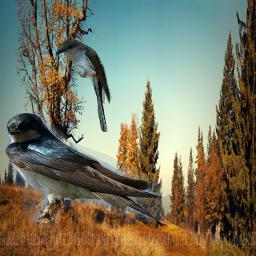Cuckoo: (55, 39, 112, 132)
Swallow: (5, 113, 163, 228)
